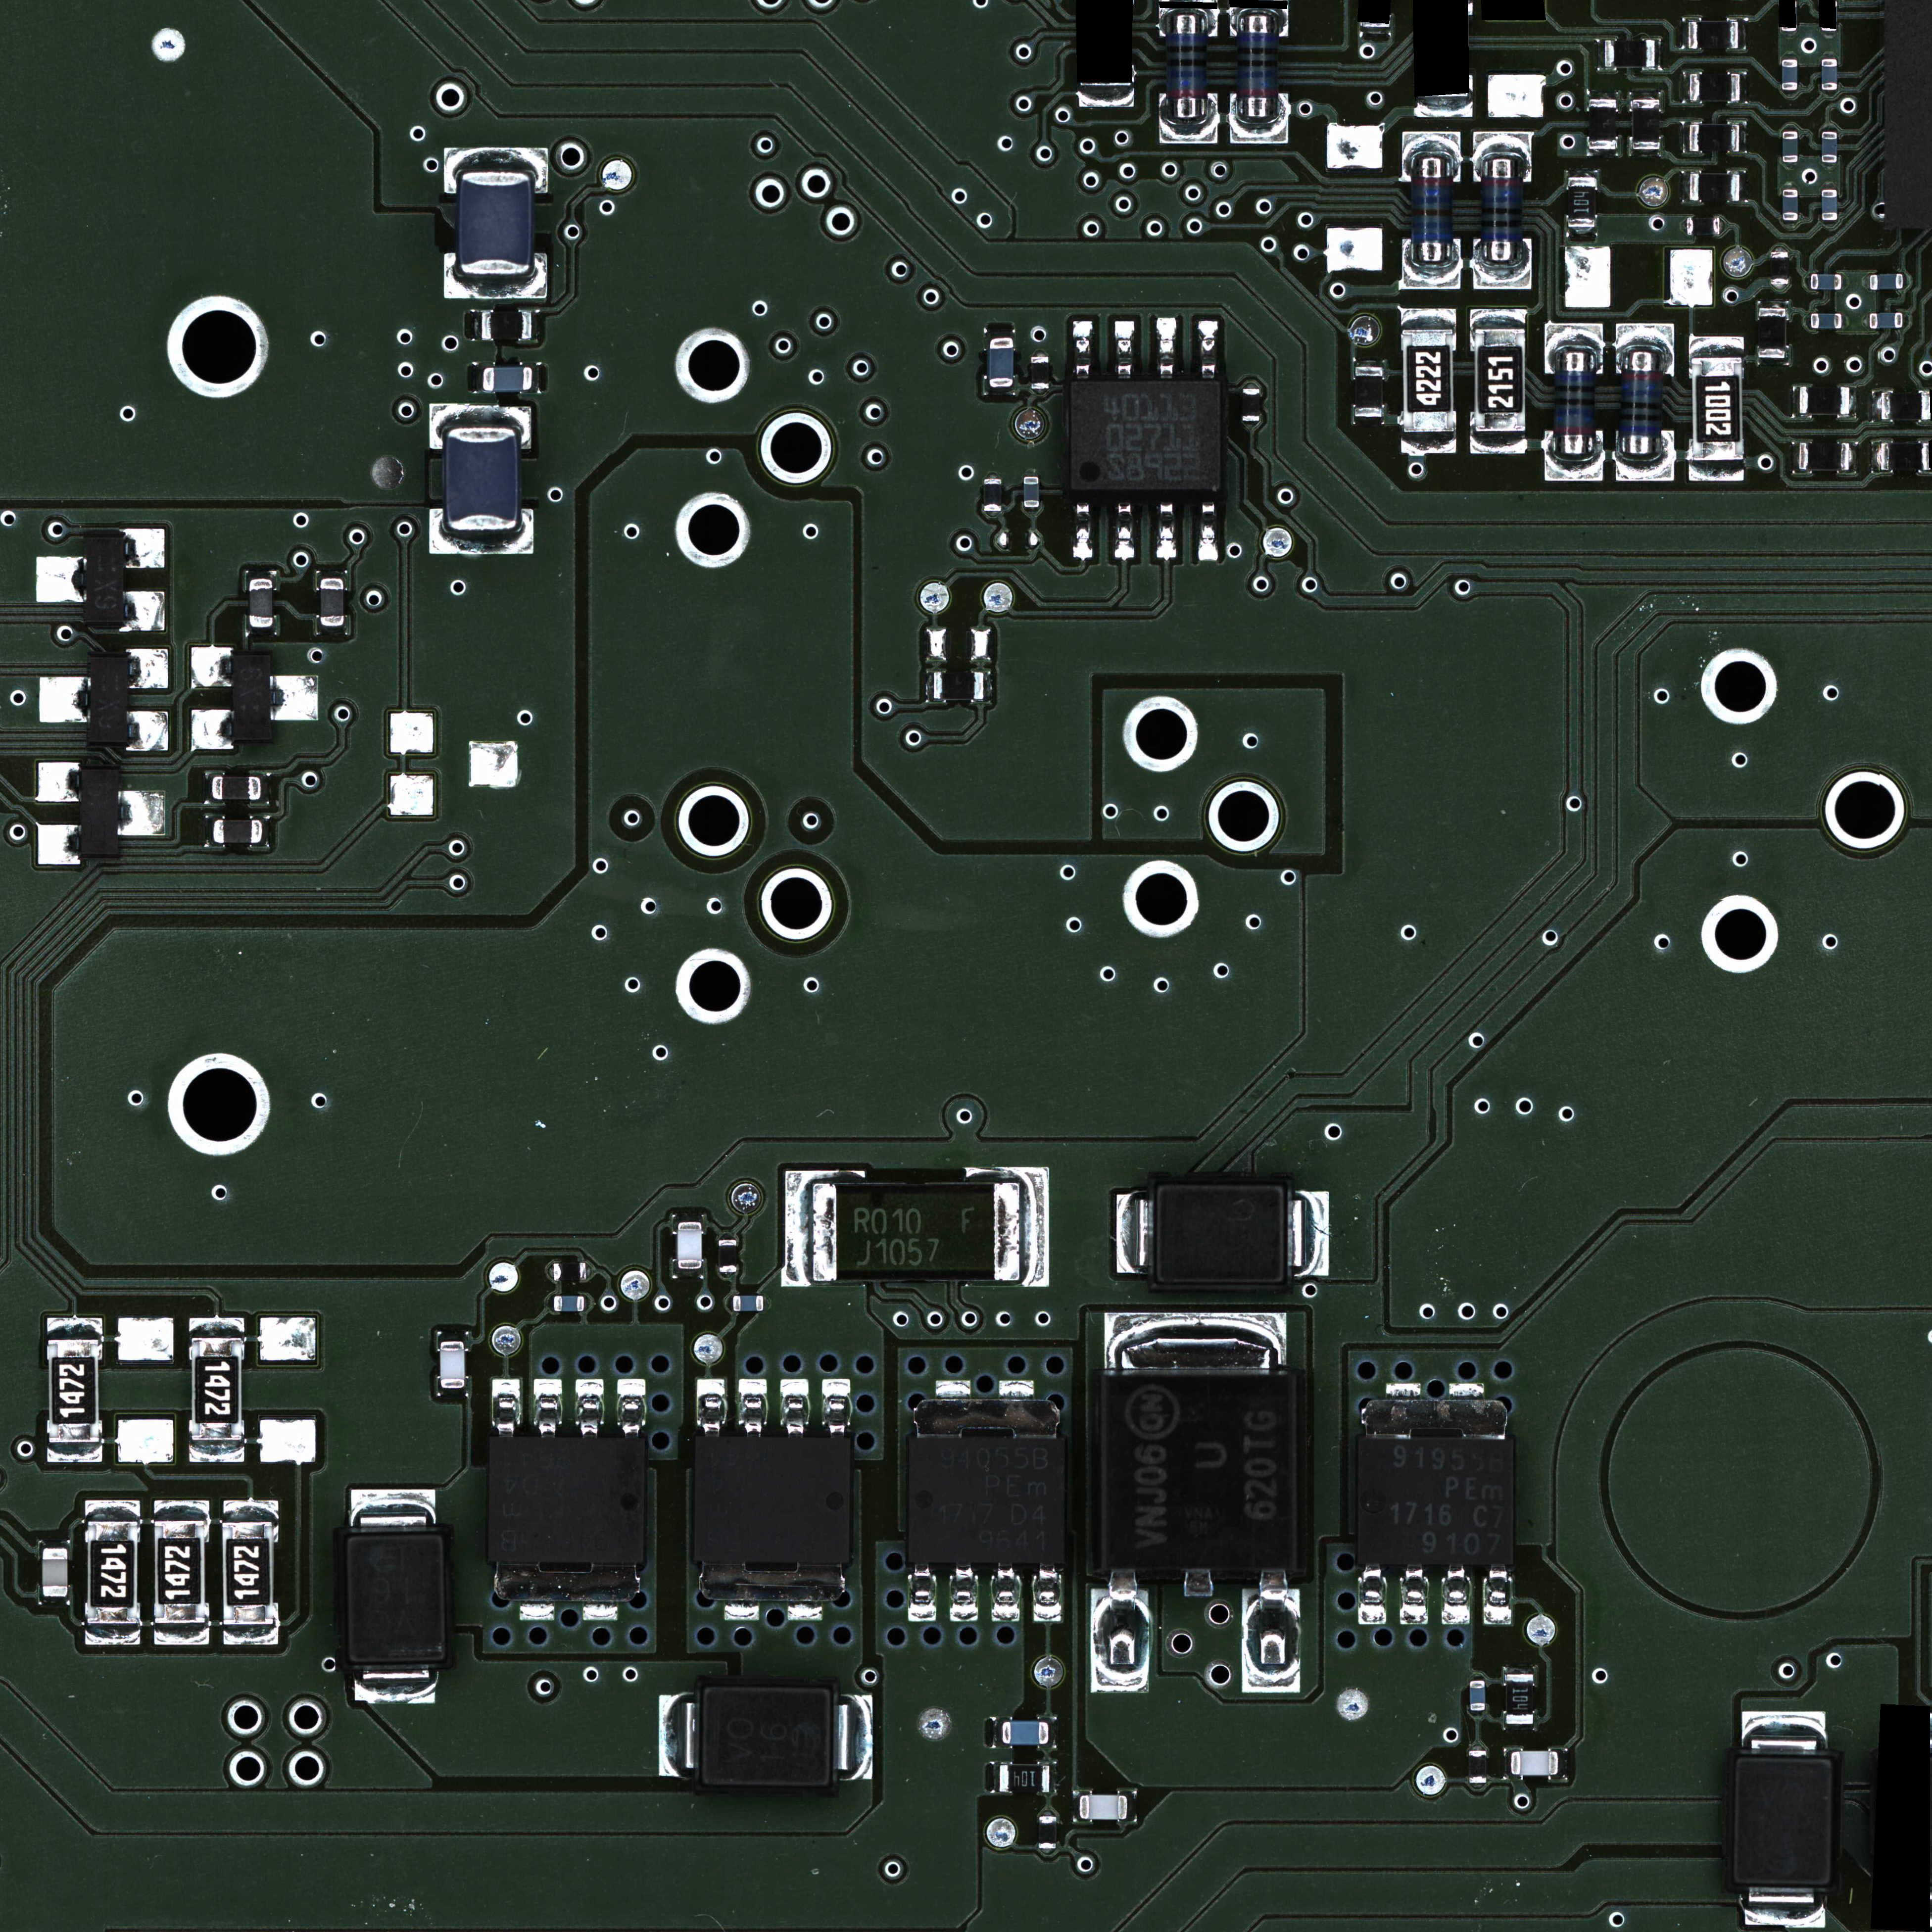Package: (1102, 1375, 1293, 1568), (814, 1182, 1019, 1281), (695, 1437, 851, 1564), (1357, 1440, 1514, 1566), (488, 1437, 644, 1562), (908, 1438, 1065, 1562), (1069, 380, 1223, 490), (345, 1534, 444, 1663), (1155, 1185, 1283, 1283), (702, 1688, 830, 1785), (1734, 1759, 1831, 1886), (444, 428, 520, 529), (458, 173, 533, 274), (87, 1522, 140, 1624), (1472, 329, 1525, 432), (1691, 357, 1743, 462), (223, 1522, 274, 1626), (154, 1520, 205, 1624), (1403, 329, 1454, 432), (50, 1339, 101, 1442), (191, 1338, 242, 1438), (1166, 14, 1212, 117), (1412, 156, 1454, 265), (1235, 14, 1279, 119), (1481, 154, 1522, 265), (1621, 350, 1660, 460), (1553, 350, 1592, 456), (80, 770, 119, 856), (90, 656, 129, 743), (87, 538, 126, 623), (234, 655, 271, 740), (1881, 442, 1930, 472), (1568, 177, 1596, 228), (1355, 366, 1384, 418), (1799, 387, 1851, 416), (1631, 99, 1660, 150), (1506, 1674, 1534, 1723), (934, 671, 984, 699), (1759, 308, 1787, 357), (1589, 99, 1617, 149), (1690, 124, 1739, 152), (481, 311, 531, 340), (1799, 442, 1849, 471), (1690, 74, 1739, 103), (1690, 173, 1739, 202), (1605, 41, 1656, 67), (1690, 21, 1737, 50), (1882, 391, 1930, 419), (1000, 1766, 1049, 1792), (989, 338, 1014, 387), (249, 579, 274, 628), (42, 1548, 67, 1596), (441, 1341, 465, 1389), (320, 579, 345, 626), (678, 1223, 702, 1269), (212, 821, 262, 844), (483, 368, 533, 391), (1001, 1721, 1049, 1744), (1511, 1752, 1559, 1775), (212, 777, 260, 800), (1079, 1796, 1127, 1819), (1468, 1750, 1488, 1783), (1031, 356, 1051, 389), (1868, 311, 1904, 329), (718, 1240, 738, 1272), (1771, 253, 1790, 285), (984, 478, 1001, 511), (554, 1263, 586, 1281), (1039, 1817, 1056, 1849), (1870, 274, 1904, 290), (1822, 189, 1838, 221), (732, 1295, 764, 1311), (1782, 58, 1798, 90), (1688, 218, 1720, 234), (554, 1295, 584, 1311), (1812, 313, 1842, 329), (1812, 274, 1842, 290), (1470, 1681, 1486, 1711), (1822, 131, 1836, 163), (1024, 476, 1039, 508), (1783, 189, 1798, 221), (1783, 131, 1798, 163), (1822, 58, 1836, 90)
Solder: (1104, 1313, 1286, 1375), (699, 1564, 846, 1621), (494, 1564, 640, 1621), (915, 1380, 1060, 1437), (1361, 1384, 1507, 1438), (1090, 1568, 1150, 1693), (1242, 1568, 1300, 1693), (1741, 1711, 1828, 1757), (1283, 1191, 1329, 1276), (658, 1695, 702, 1778), (830, 1695, 872, 1780), (350, 1490, 435, 1532), (1744, 1886, 1826, 1928), (1021, 1166, 1049, 1288), (354, 1663, 435, 1704), (786, 1169, 812, 1288), (1116, 1194, 1155, 1274), (442, 147, 548, 173), (428, 529, 534, 554), (428, 403, 533, 428), (444, 274, 547, 299), (35, 557, 85, 602), (39, 678, 88, 722), (271, 676, 318, 720), (119, 791, 166, 835), (1483, 1566, 1513, 1626), (1399, 1566, 1430, 1626), (37, 824, 81, 865), (1442, 1566, 1472, 1624), (697, 1378, 727, 1437), (191, 709, 234, 750), (950, 1562, 978, 1622), (908, 1564, 938, 1621), (991, 1564, 1021, 1621), (1359, 1566, 1387, 1626), (37, 763, 80, 801), (492, 1378, 520, 1437), (1033, 1564, 1062, 1622), (738, 1380, 768, 1435), (533, 1380, 563, 1435), (617, 1380, 646, 1437), (575, 1380, 603, 1437), (191, 648, 232, 686), (780, 1380, 809, 1435), (1615, 324, 1674, 350), (1545, 324, 1603, 350), (129, 649, 168, 688), (126, 591, 165, 630), (126, 529, 165, 568), (129, 711, 168, 750), (823, 1382, 851, 1435), (1161, 119, 1219, 143), (1545, 456, 1603, 481), (1403, 131, 1461, 156), (1474, 131, 1532, 156), (1231, 119, 1286, 143), (1403, 265, 1461, 288), (1474, 265, 1532, 288), (189, 1438, 244, 1461), (1401, 432, 1456, 455), (1615, 460, 1674, 481), (1470, 432, 1527, 453), (1688, 336, 1744, 357), (46, 1318, 103, 1339), (1399, 308, 1456, 329), (223, 1500, 280, 1522), (1077, 85, 1134, 106), (1198, 502, 1217, 563), (1157, 318, 1177, 379), (154, 1624, 209, 1645), (48, 1442, 103, 1463), (85, 1500, 140, 1522), (85, 1624, 140, 1645), (1415, 97, 1474, 117), (1072, 320, 1092, 379), (1688, 462, 1744, 481), (223, 1626, 280, 1645), (1115, 502, 1134, 559), (1074, 502, 1093, 559), (1157, 502, 1177, 559), (154, 1500, 211, 1520), (189, 1318, 244, 1338), (1200, 320, 1217, 379), (1115, 320, 1132, 377), (1470, 310, 1527, 327), (1184, 1568, 1214, 1598), (1359, 30, 1392, 42), (984, 327, 1016, 338), (1127, 1790, 1138, 1822), (437, 1330, 469, 1341), (991, 1716, 1001, 1748), (1870, 393, 1882, 419), (472, 363, 483, 393), (315, 626, 349, 635), (244, 570, 278, 579), (1049, 1716, 1058, 1750), (1757, 357, 1790, 366), (246, 628, 278, 637), (437, 1389, 469, 1398), (1587, 149, 1619, 157), (985, 387, 1017, 396), (1629, 90, 1661, 99), (672, 1270, 704, 1279), (262, 773, 271, 805), (1790, 386, 1799, 418), (1559, 1748, 1568, 1780), (1739, 170, 1748, 202), (533, 311, 541, 343), (1596, 39, 1605, 71), (1353, 357, 1385, 366), (39, 1539, 69, 1548), (1504, 1665, 1534, 1674), (1587, 90, 1617, 99), (262, 816, 271, 846), (1353, 418, 1384, 426), (1566, 228, 1596, 237), (533, 363, 541, 393), (1681, 172, 1690, 202), (203, 816, 212, 846), (925, 671, 934, 701), (471, 311, 479, 341), (1790, 442, 1799, 472), (317, 570, 347, 579), (1739, 122, 1748, 152), (1870, 444, 1879, 474), (1849, 442, 1858, 471), (205, 771, 212, 805), (1072, 1790, 1079, 1822), (991, 1762, 998, 1794), (39, 1598, 71, 1605), (1681, 18, 1688, 50), (1504, 1748, 1511, 1780), (1741, 73, 1748, 104), (984, 671, 991, 702), (672, 1214, 702, 1221), (1631, 150, 1661, 157), (1759, 301, 1789, 308), (1683, 122, 1690, 152), (1568, 170, 1598, 177), (1051, 1762, 1058, 1792), (1683, 73, 1690, 103), (1504, 1723, 1534, 1730), (1851, 387, 1856, 418), (1656, 39, 1661, 69), (1039, 1808, 1056, 1817), (1822, 180, 1838, 189), (1782, 122, 1798, 131), (1861, 274, 1870, 290), (718, 1233, 738, 1240), (1023, 508, 1040, 515), (1821, 51, 1838, 58), (1468, 1743, 1486, 1750), (1039, 1849, 1056, 1856), (1470, 1672, 1484, 1681), (1783, 180, 1798, 189), (718, 1272, 736, 1279), (1782, 51, 1798, 58), (1842, 313, 1849, 329), (1782, 161, 1798, 168), (1904, 272, 1911, 288), (1822, 124, 1838, 131), (584, 1295, 591, 1311), (547, 1263, 554, 1279), (547, 1295, 554, 1311), (1842, 274, 1849, 290), (1782, 32, 1798, 39), (1822, 32, 1838, 39), (1468, 1783, 1488, 1789), (1822, 161, 1836, 168), (1024, 469, 1039, 476), (1805, 274, 1812, 288), (1821, 221, 1838, 226), (1782, 221, 1799, 226), (1904, 311, 1909, 329), (984, 511, 1001, 517), (1821, 90, 1838, 96), (1771, 285, 1789, 290), (1771, 246, 1789, 251), (1031, 389, 1049, 395), (1782, 90, 1798, 96), (586, 1263, 591, 1279), (764, 1295, 770, 1311), (727, 1295, 732, 1311), (1806, 313, 1812, 329), (1720, 218, 1725, 234), (1033, 350, 1049, 356), (1863, 313, 1868, 327), (1470, 1711, 1484, 1716), (985, 472, 1000, 478), (1683, 218, 1686, 234)
